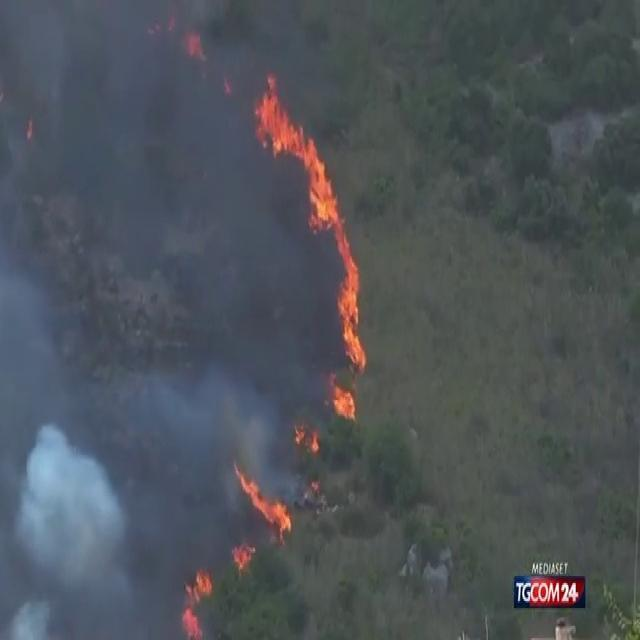Fire: (253, 68, 338, 230), (324, 206, 374, 408), (229, 460, 294, 570), (176, 563, 216, 640)
Smoke: (0, 0, 330, 624)
